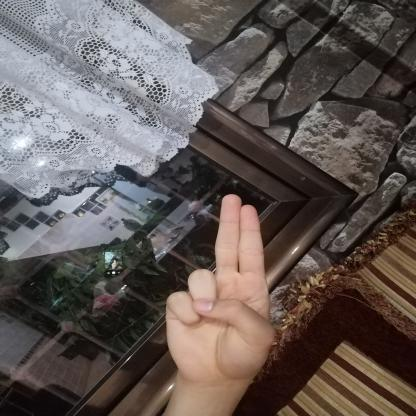TA: (152, 181, 288, 391)
